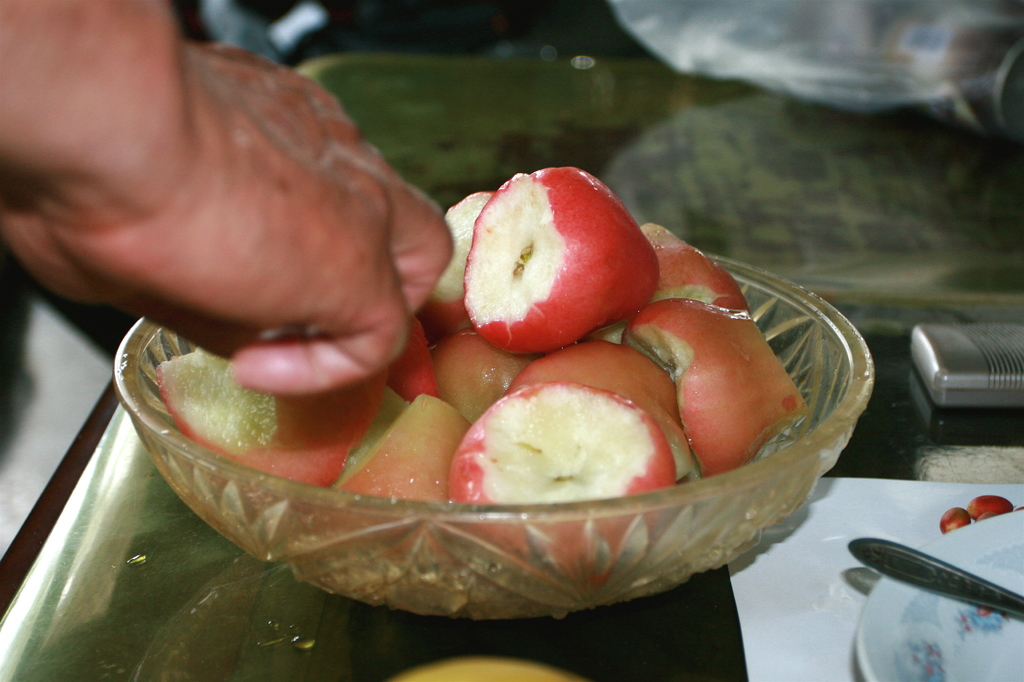Apple: (145, 181, 807, 584), (455, 168, 659, 359)
